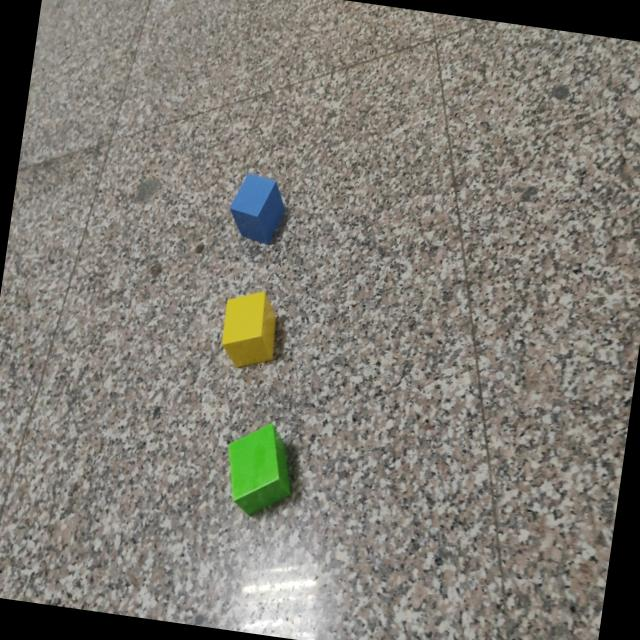blue: (230, 174, 287, 247)
green: (227, 425, 295, 518)
yellow: (220, 292, 279, 370)
